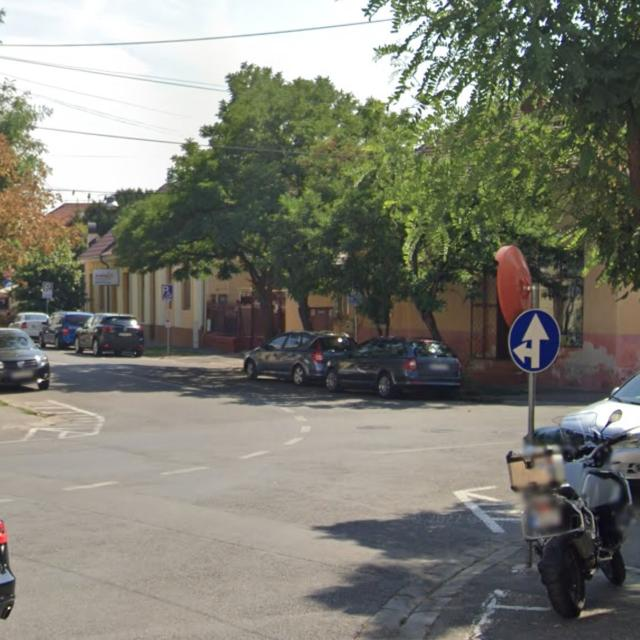mand_straigh_left: (508, 309, 560, 373)
